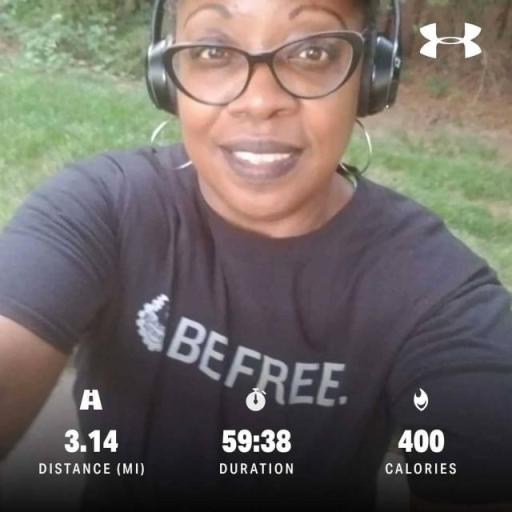Under Armour: (416, 19, 486, 62)
